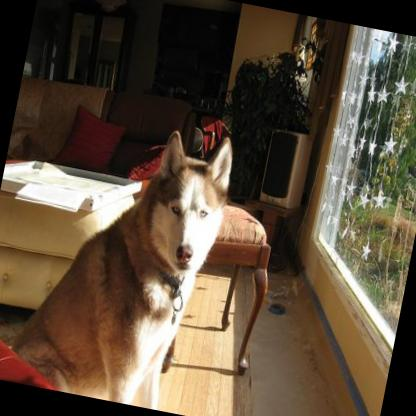Eskimo_dog: (6, 104, 237, 413)
